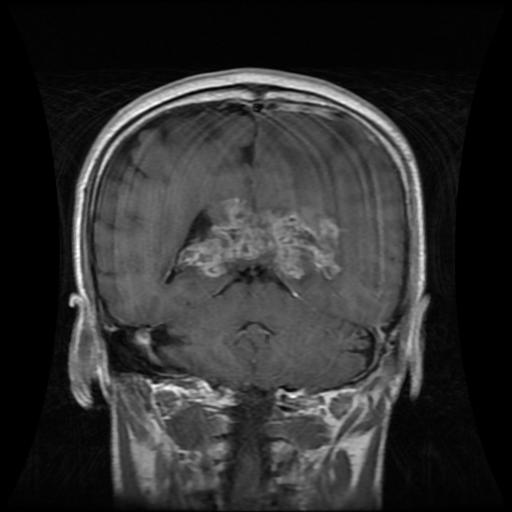Gliomia_tumour: (177, 196, 342, 279)
